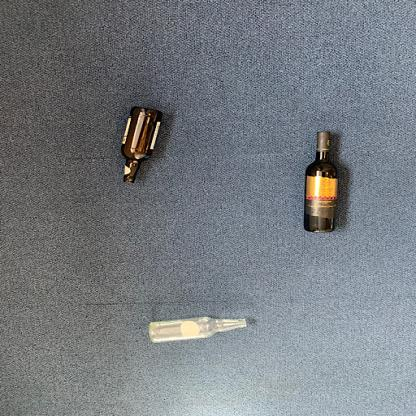trash: (301, 130, 342, 237), (119, 105, 164, 189), (148, 314, 248, 344)
